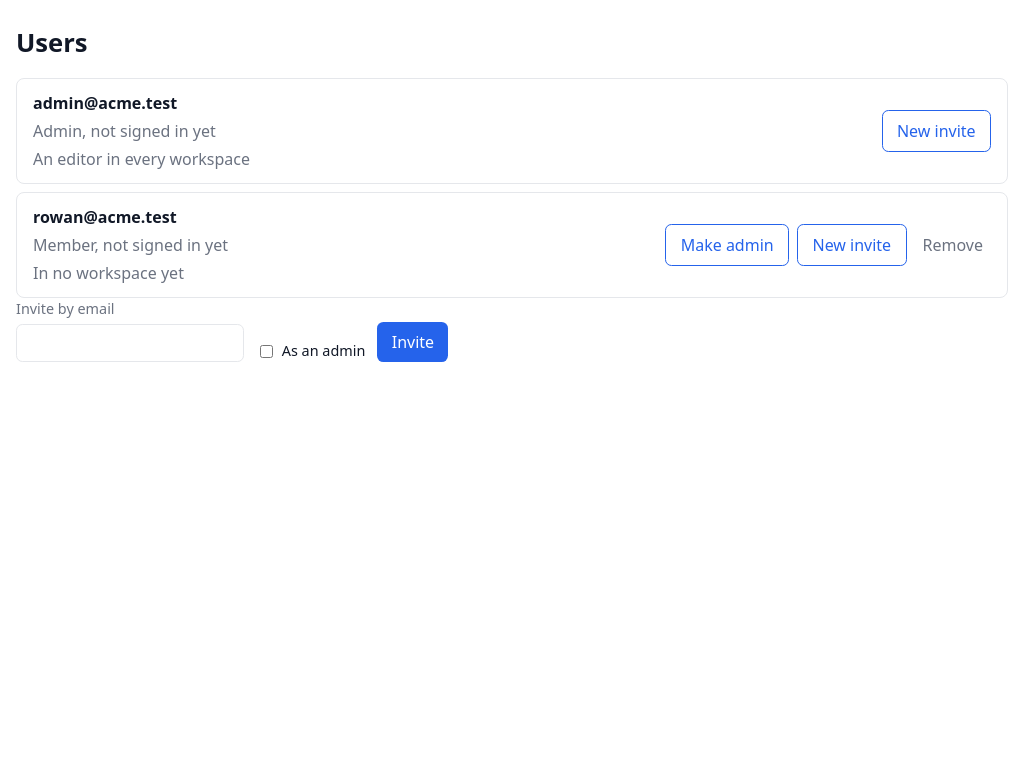
Test: says why a new invite was not mailed, and gives its link
Click the button "New invite" in the row of "rowan@acme.test".
click(852, 245)  # box top-left (797, 224), bottom-right (907, 266)
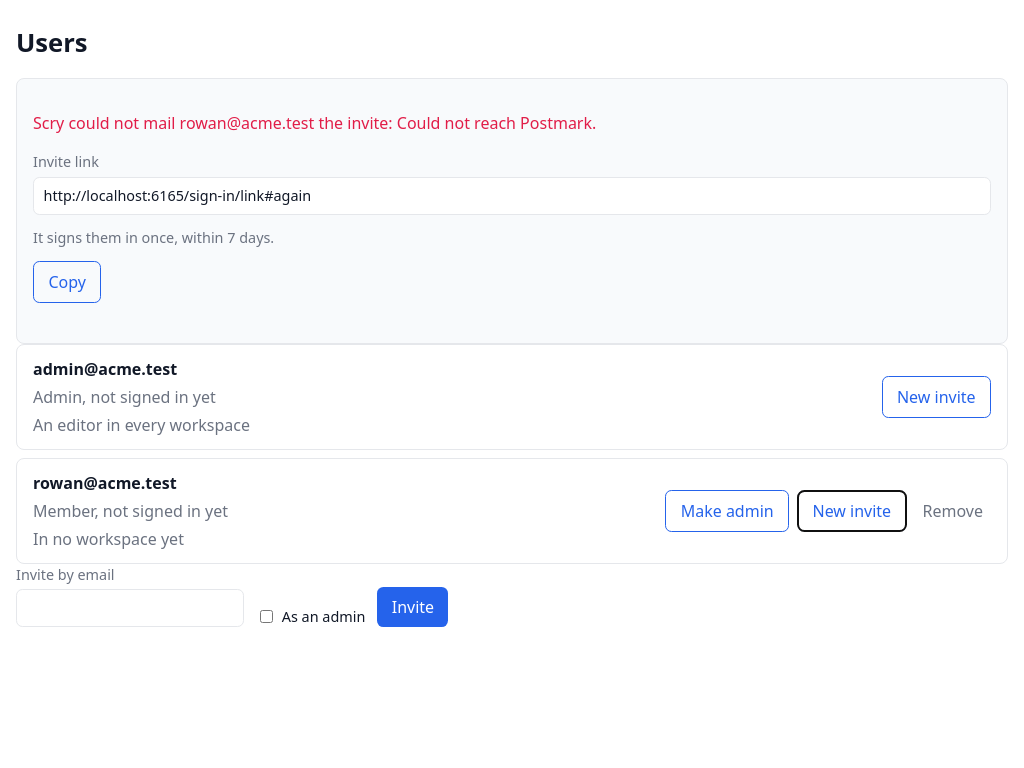
Check: the text "Scry could not mail rowan@acme.test the invite: Could not reach Postmark." is shown, box top-left (33, 112), bottom-right (596, 134)
Check: the field labelled "Invite link" holds "http://localhost:6165/sign-in/link#again", box top-left (33, 177), bottom-right (991, 215)
